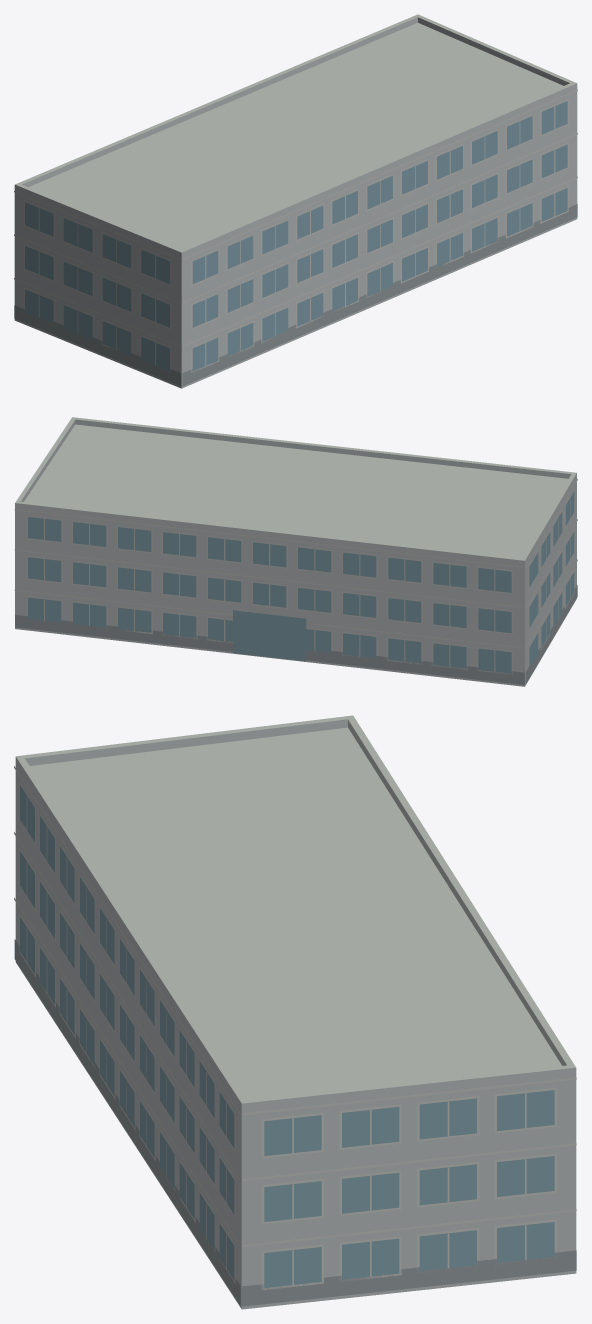
Rendered from public-232837ca-f551-45d9-90c4-bb1ef17266a3.glb.
The picture shows the model from 3 angles, top to bottom: view 1: azimuth 30°, elevation 25°; view 2: azimuth 150°, elevation 25°; view 3: azimuth 270°, elevation 25°; orthographic projection. The views are drawn at different scales.
Visible parts, largest first — view 1: public-232837ca-f551-45d9-90c4-bb1ef17266a3; view 2: public-232837ca-f551-45d9-90c4-bb1ef17266a3; view 3: public-232837ca-f551-45d9-90c4-bb1ef17266a3.
Boxes of the visible parts, <box> form: public-232837ca-f551-45d9-90c4-bb1ef17266a3: <box>14,14,577,388</box>; public-232837ca-f551-45d9-90c4-bb1ef17266a3: <box>14,417,577,686</box>; public-232837ca-f551-45d9-90c4-bb1ef17266a3: <box>14,715,576,1309</box>.
Size of the model in its own units: 37.13 by 9.15 by 22.71.
